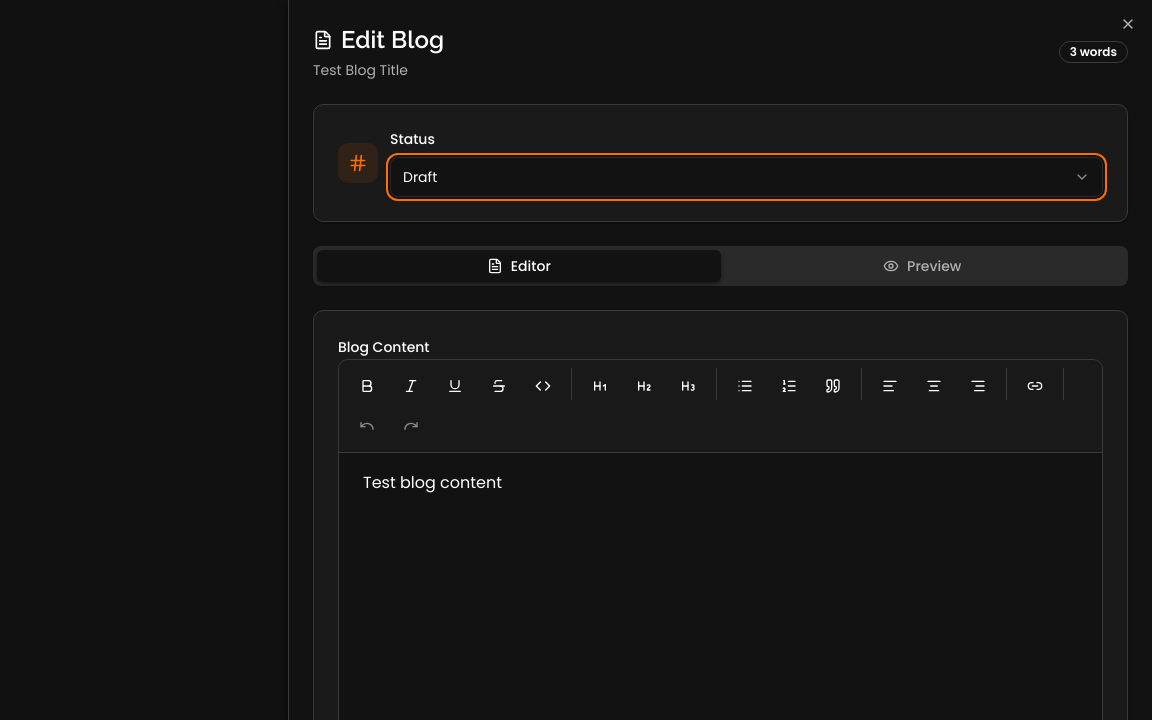
Test case: BlogEditor › displays status badge
Click the tab "Preview" at [922, 266], box [720,250,1124,282]
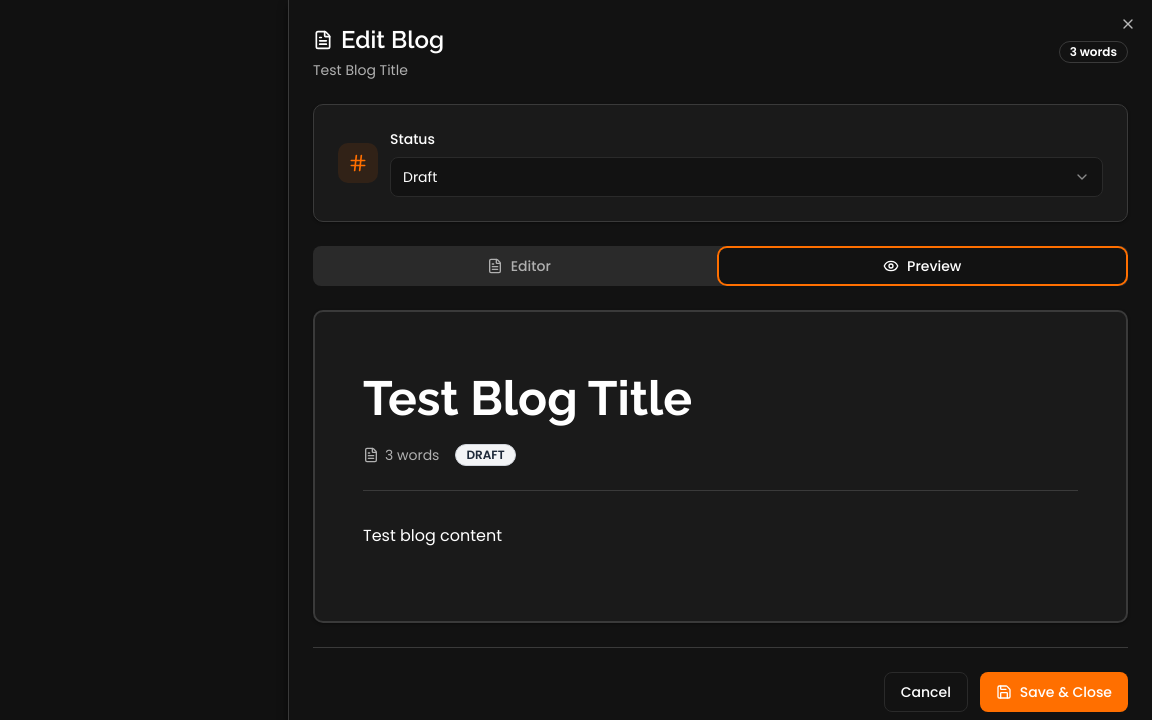
Now the text "DRAFT" is shown, box [455,444,516,466]
